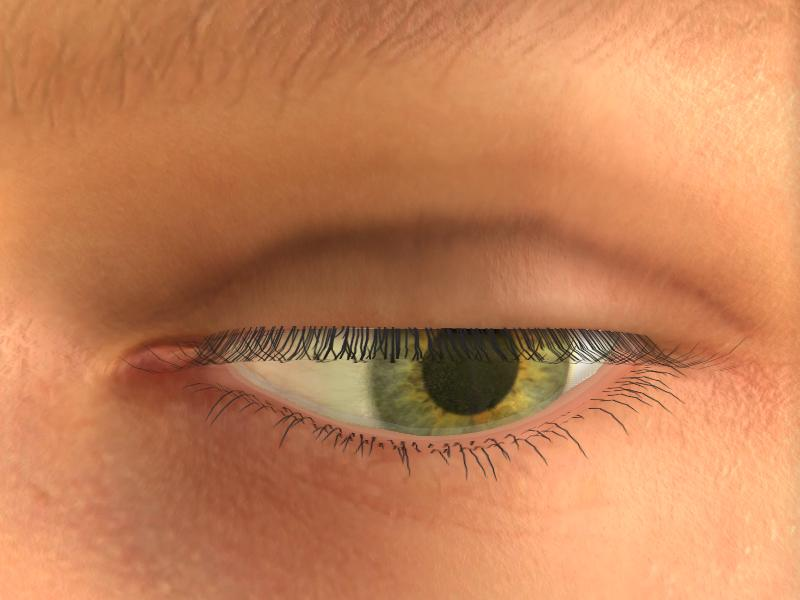eye: (369, 321, 568, 438)
